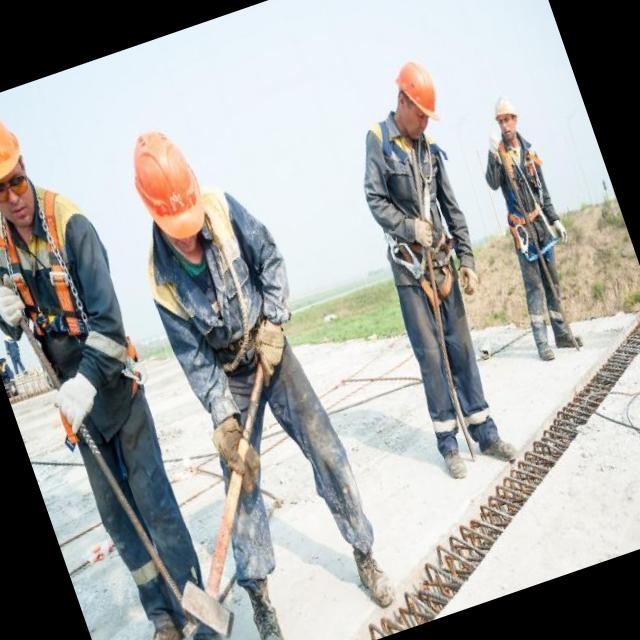hard_hat: (104, 105, 230, 255), (376, 43, 464, 144), (0, 87, 42, 203), (482, 84, 538, 136)
vehicle: (77, 93, 425, 640), (277, 33, 571, 510), (0, 78, 249, 640), (448, 82, 610, 378)
work_boots: (336, 524, 415, 626), (224, 567, 314, 640), (110, 585, 201, 640), (458, 408, 528, 476), (426, 421, 484, 501), (163, 594, 245, 640), (516, 321, 568, 381), (543, 309, 597, 364)
